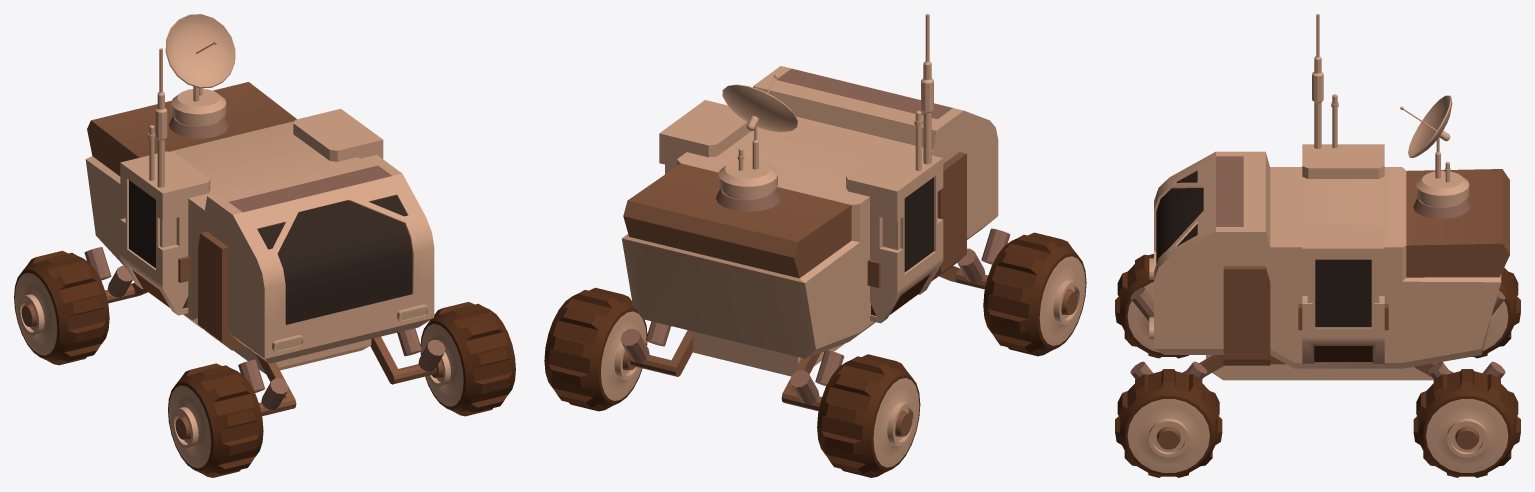
File: rover_1.glb
3 renders of one model, left to right at view 1: azimuth 30°, elevation 25°; view 2: azimuth 150°, elevation 25°; view 3: azimuth 270°, elevation 25°, orthographic. The views are drawn at different scales.
Parts seen in each view (by area): view 1: Wheel_1; view 2: Wheel_1; view 3: Wheel_1.
Part boxes in pixels (<box>): Wheel_1: <box>14,14,515,477</box>; Wheel_1: <box>544,14,1086,477</box>; Wheel_1: <box>1115,14,1520,477</box>.
Size of the model in its own units: 4.58 by 4.88 by 5.16.
1 material, 1 textured.
